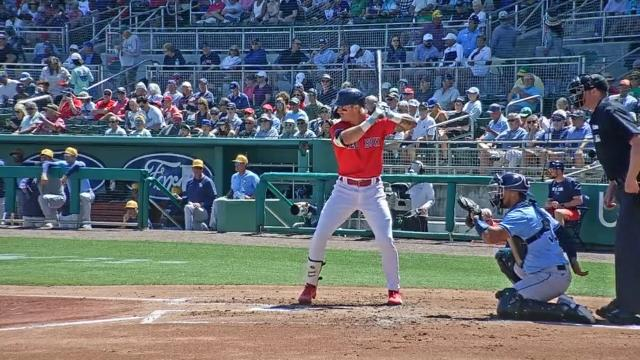baseball bat: (374, 50, 382, 102)
